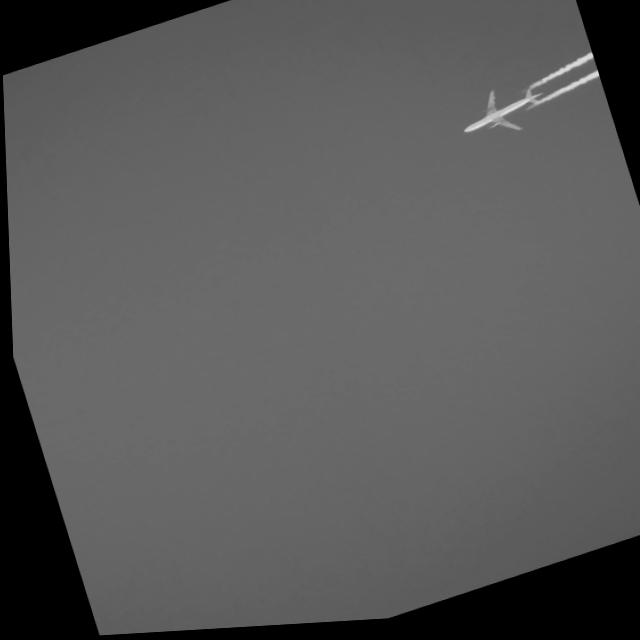aeroplane: (445, 78, 553, 157)
